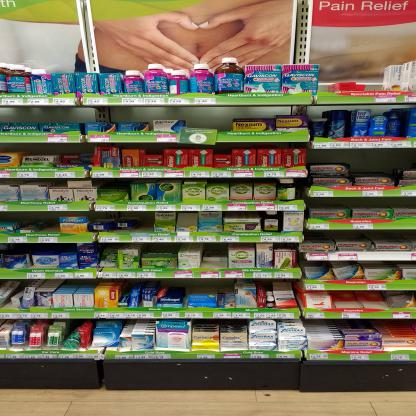Void: (5, 106, 89, 123), (306, 230, 411, 242), (354, 150, 394, 176), (314, 199, 415, 209), (184, 110, 228, 131), (24, 144, 87, 154), (112, 108, 174, 118), (236, 106, 273, 119), (41, 212, 60, 233), (136, 212, 154, 234), (313, 148, 345, 160), (193, 280, 220, 292), (16, 212, 34, 227), (102, 180, 130, 189), (206, 244, 226, 256)
